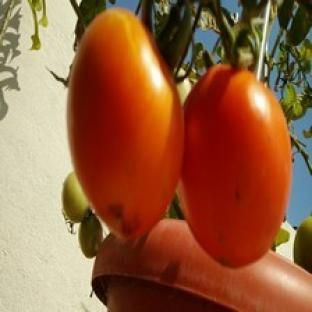Tomato: (67, 9, 183, 238), (180, 65, 292, 267), (62, 172, 89, 222), (78, 214, 103, 257)
